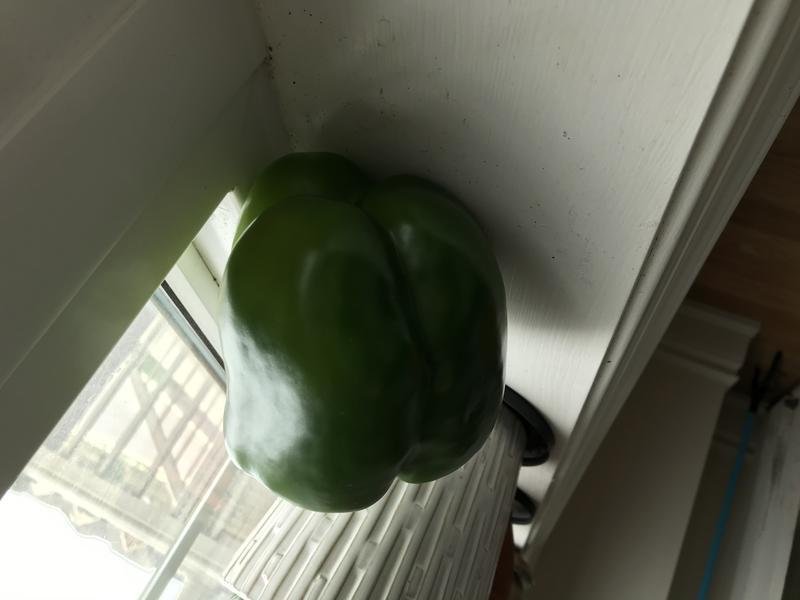green_pepper: (219, 146, 526, 513)
